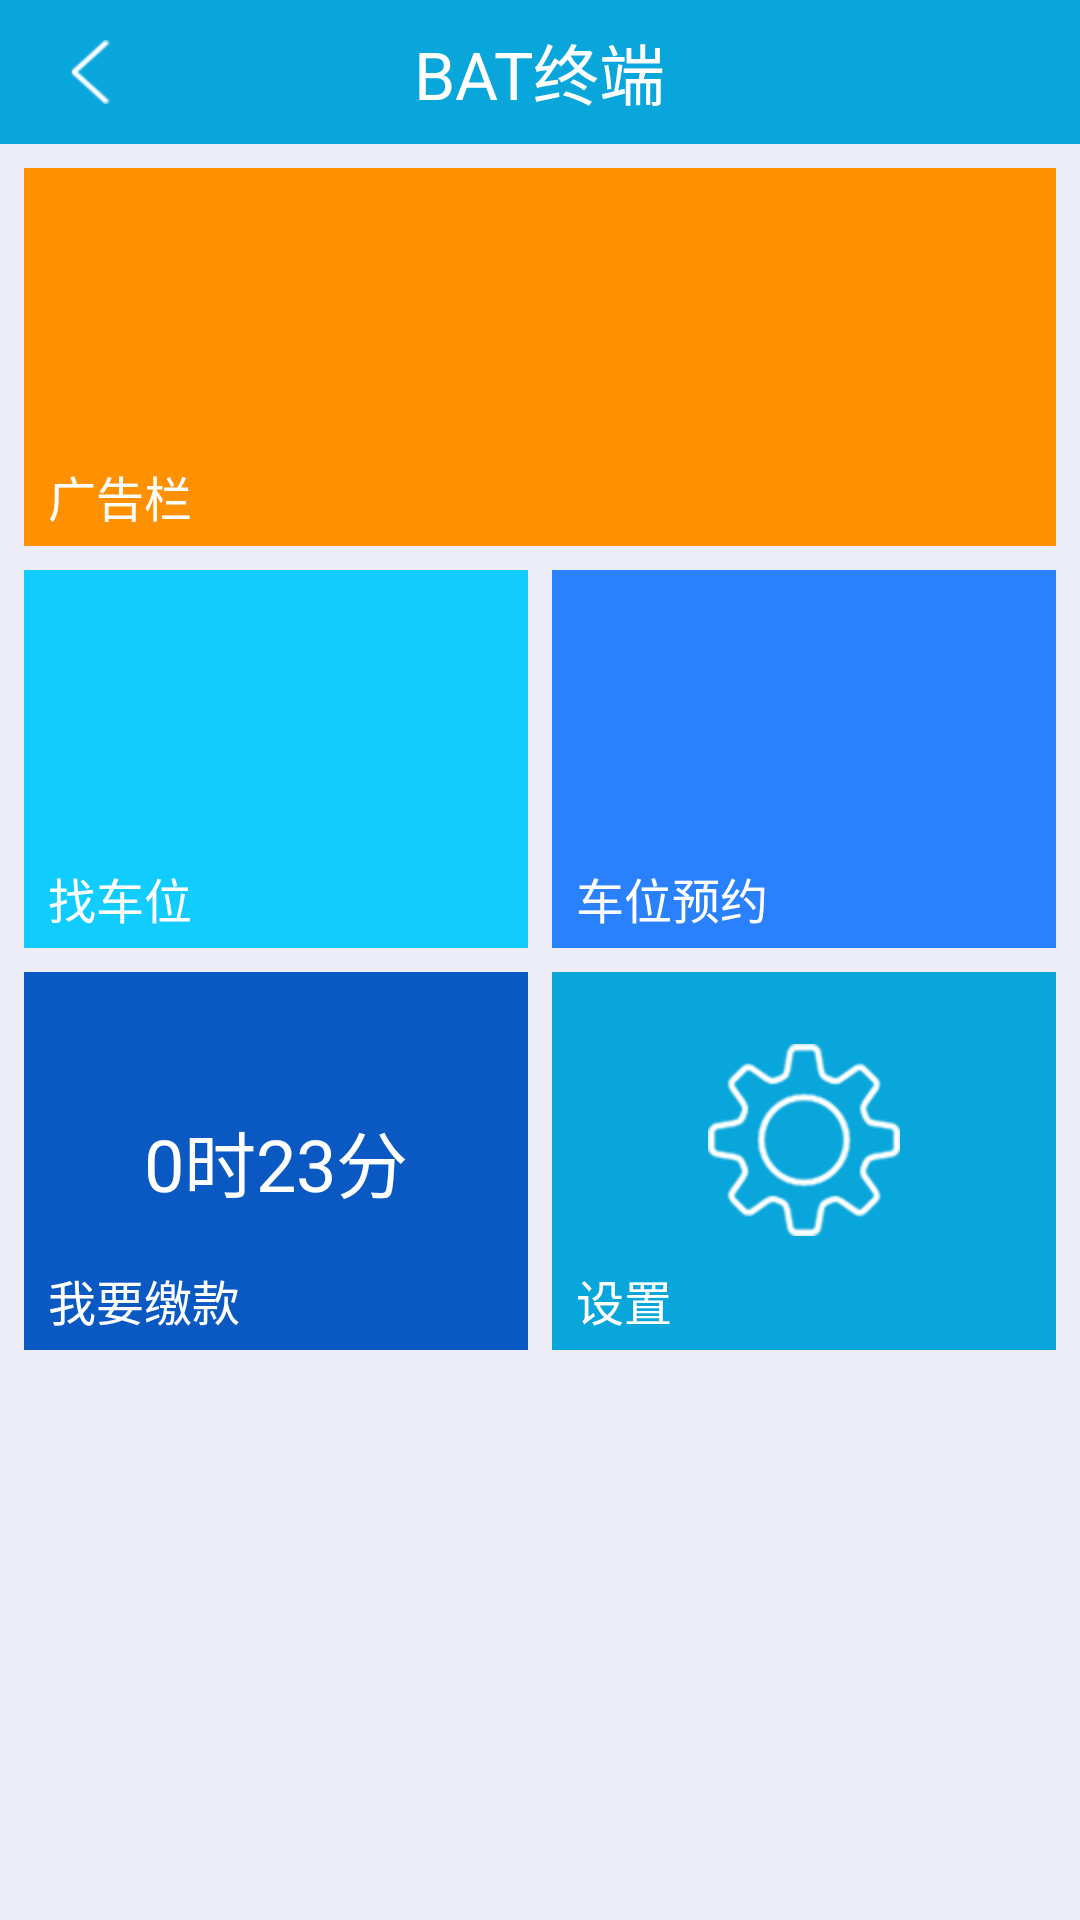

Named icons in this screenshot (1080×1920) and their centers, (x,y):
fanhui: (90,72)
